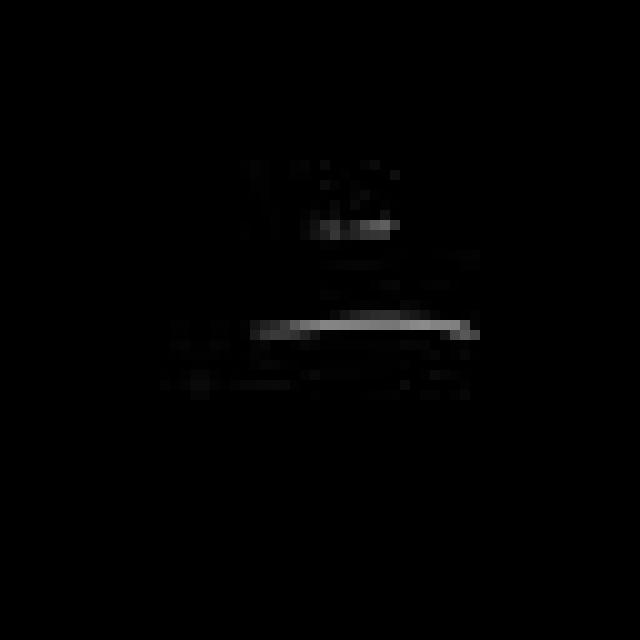2 -two-: (241, 190, 485, 363)
